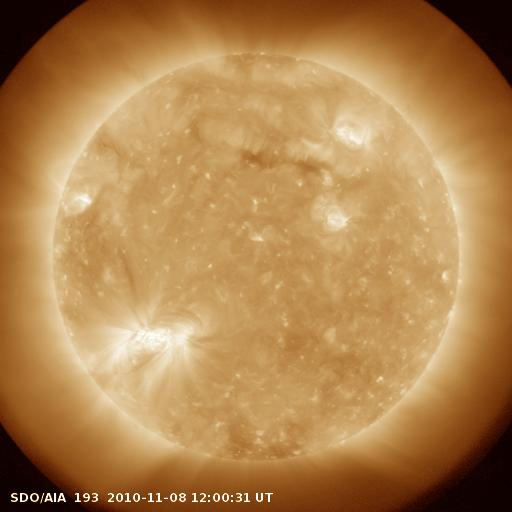coronal_hole: (241, 146, 326, 183)
